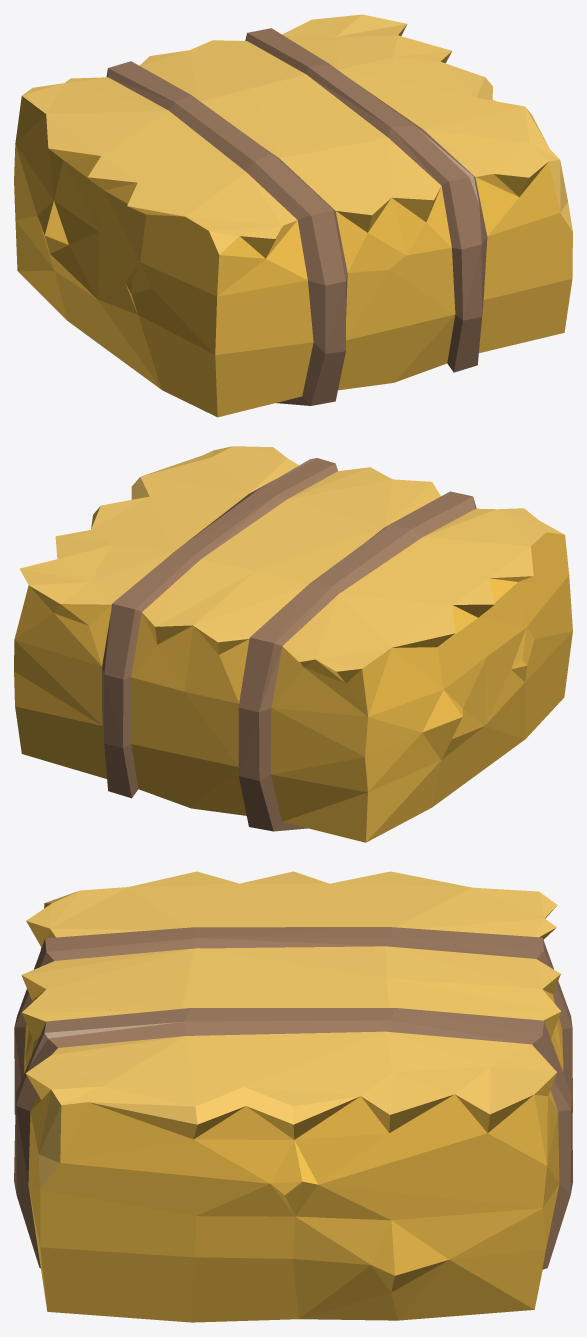
The model's file is EA_M_HayBale_Square_Yellow_01c.fbx.
3 renders of one model, top to bottom at view 1: azimuth 30°, elevation 25°; view 2: azimuth 150°, elevation 25°; view 3: azimuth 270°, elevation 25°, orthographic. The views are drawn at different scales.
Parts seen in each view (by area): view 1: EA_M_HayBale_Square_Yellow_01c_LOD0; view 2: EA_M_HayBale_Square_Yellow_01c_LOD0; view 3: EA_M_HayBale_Square_Yellow_01c_LOD0.
Boxes of the visible parts, x1=… form: EA_M_HayBale_Square_Yellow_01c_LOD0: x1=14, y1=14, x2=572, y2=417; EA_M_HayBale_Square_Yellow_01c_LOD0: x1=14, y1=446, x2=572, y2=842; EA_M_HayBale_Square_Yellow_01c_LOD0: x1=14, y1=871, x2=572, y2=1322.
Size of what is drawn, in the model's own units: 1.21 by 0.6056 by 1.15.
